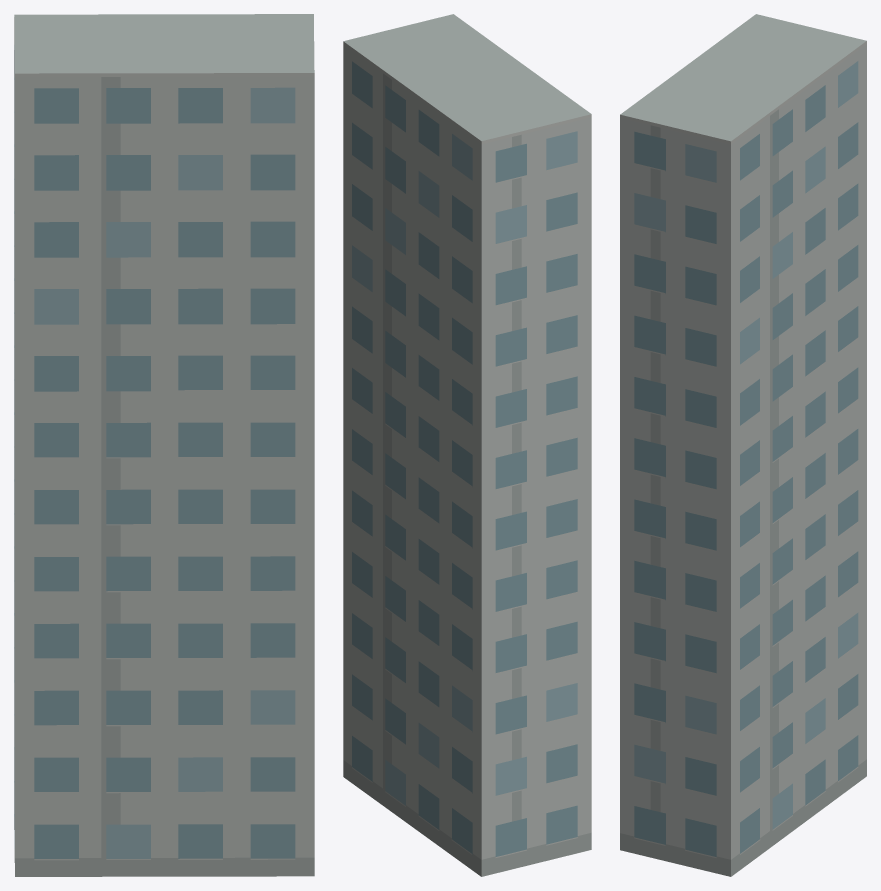
The model's file is residential-2beed98e-f5fe-4184-b2fb-ec7b5d18a6d1.glb.
3 renders of one model, left to right at view 1: azimuth 30°, elevation 25°; view 2: azimuth 150°, elevation 25°; view 3: azimuth 270°, elevation 25°, orthographic. The views are drawn at different scales.
Visible parts, largest first — view 1: residential-2beed98e-f5fe-4184-b2fb-ec7b5d18a6d1.tmp; view 2: residential-2beed98e-f5fe-4184-b2fb-ec7b5d18a6d1.tmp; view 3: residential-2beed98e-f5fe-4184-b2fb-ec7b5d18a6d1.tmp.
Boxes of the visible parts, <box> form: residential-2beed98e-f5fe-4184-b2fb-ec7b5d18a6d1.tmp: <box>14,14,314,876</box>; residential-2beed98e-f5fe-4184-b2fb-ec7b5d18a6d1.tmp: <box>343,14,591,876</box>; residential-2beed98e-f5fe-4184-b2fb-ec7b5d18a6d1.tmp: <box>620,14,866,876</box>.
Bounding box in the file's own units: 20.43 × 55 × 16.73.
